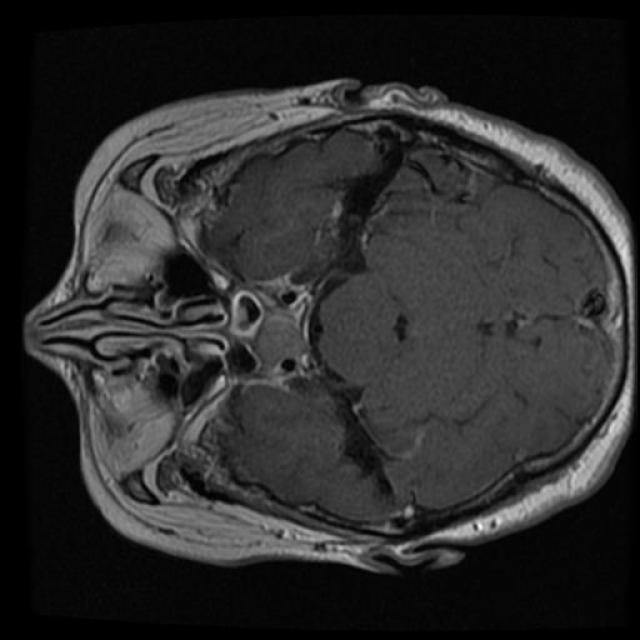Pituitary: (225, 273, 322, 387)
